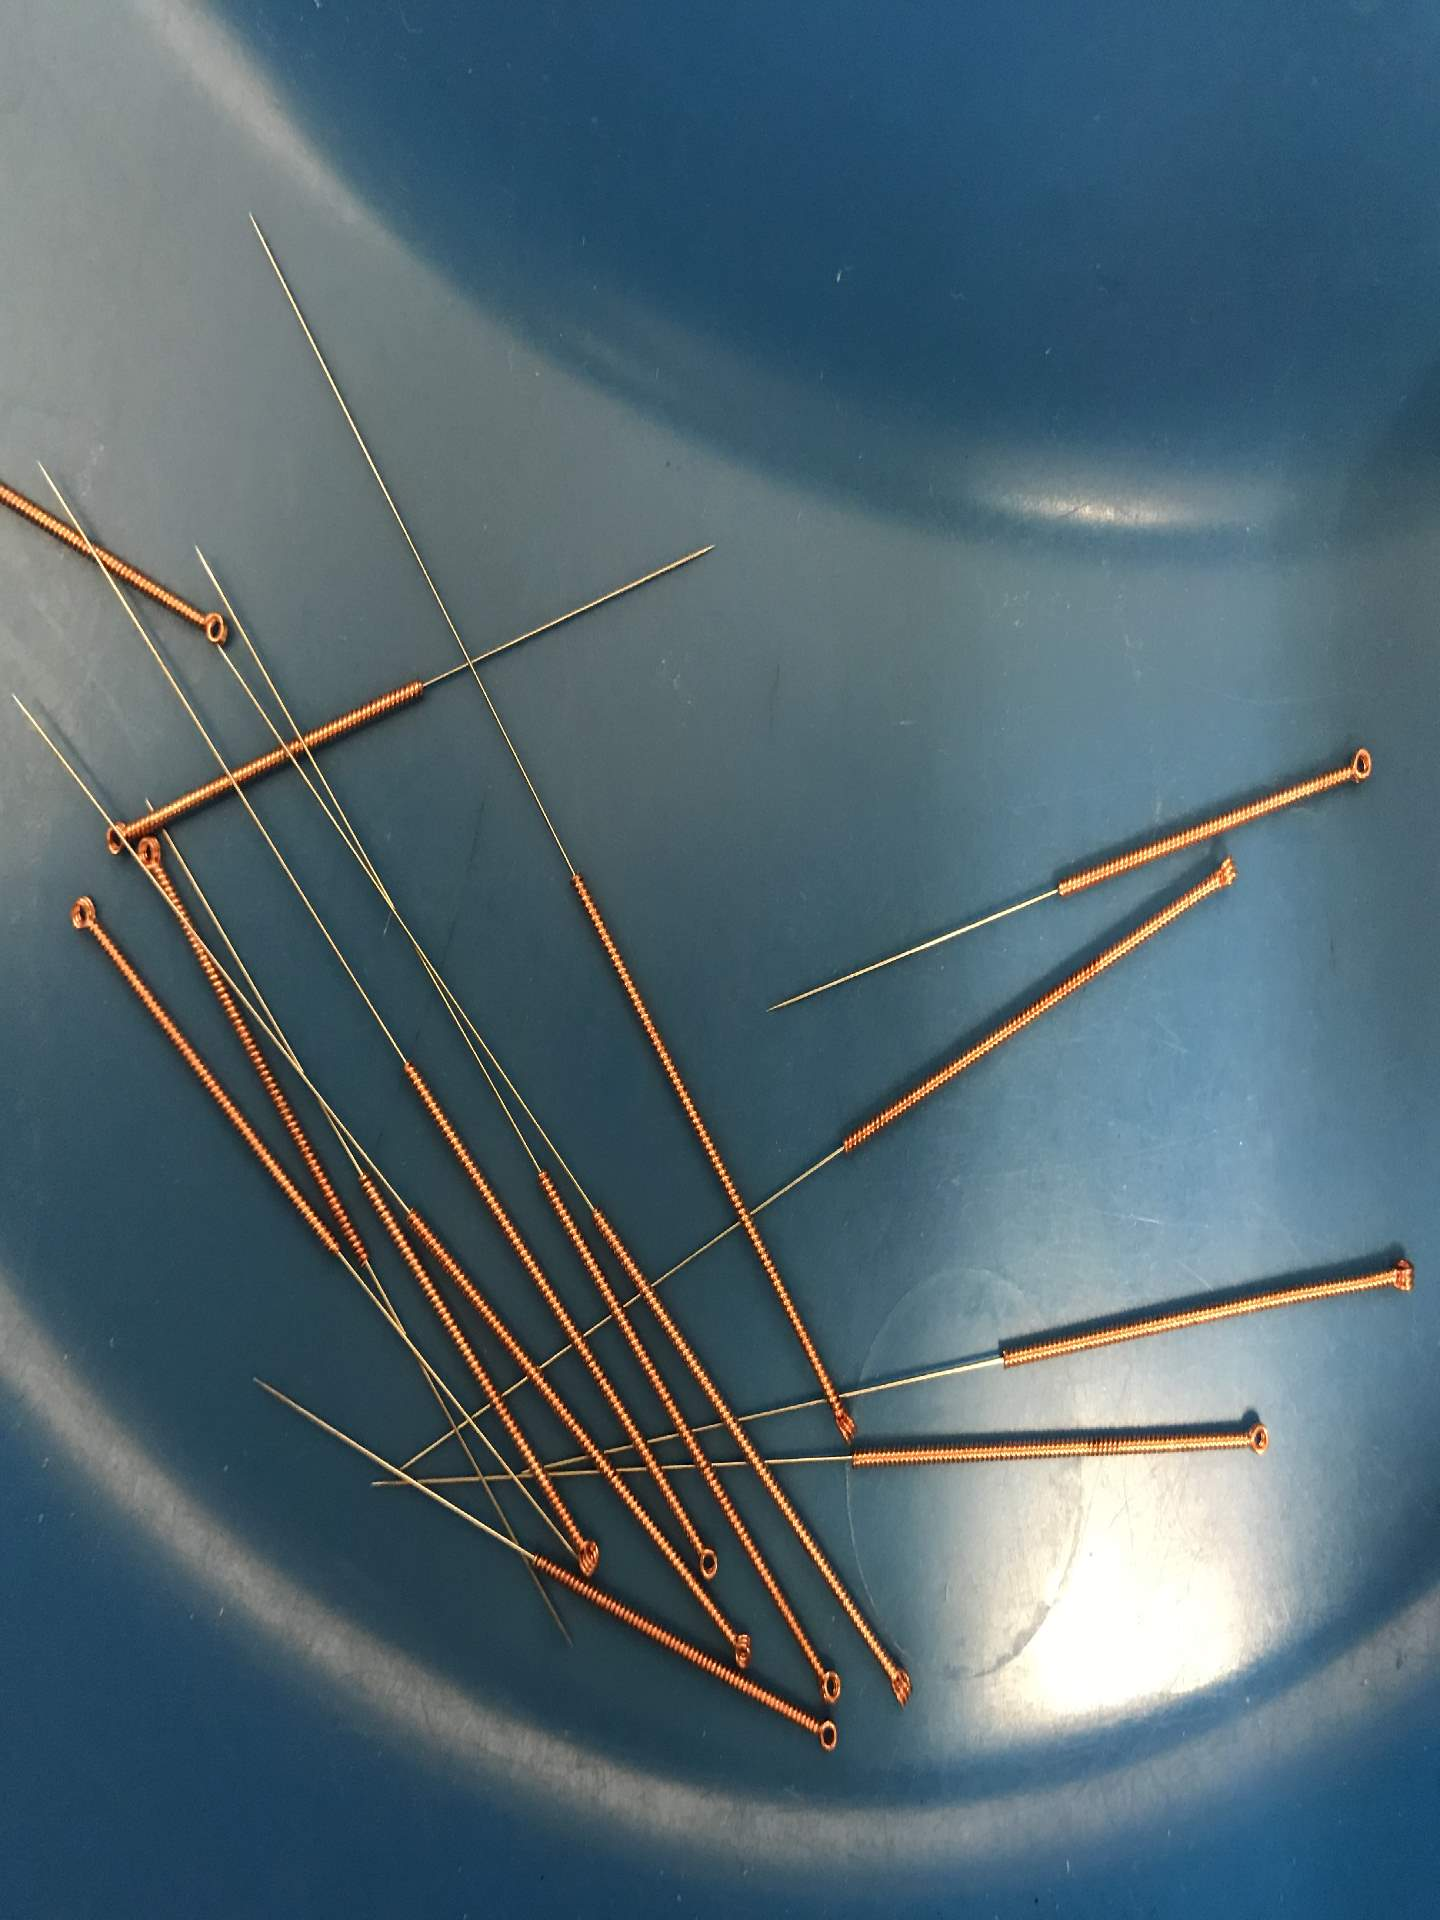needle: (54, 884, 112, 951), (1325, 732, 1381, 798), (175, 597, 239, 655), (876, 1654, 926, 1717), (1375, 1243, 1423, 1306), (88, 807, 138, 865), (817, 1389, 865, 1448), (126, 824, 172, 884), (797, 1710, 849, 1763), (809, 1651, 850, 1714), (718, 1612, 761, 1672), (1231, 1412, 1280, 1463), (569, 1519, 607, 1584), (1199, 848, 1249, 897), (691, 1531, 725, 1584)
